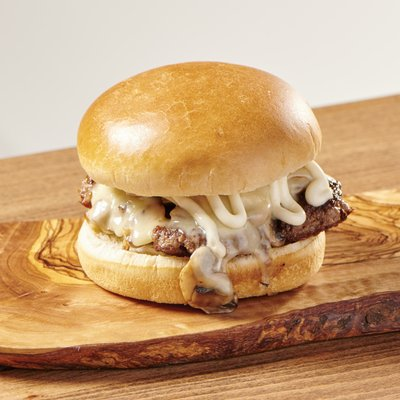soup: (74, 60, 354, 313)
